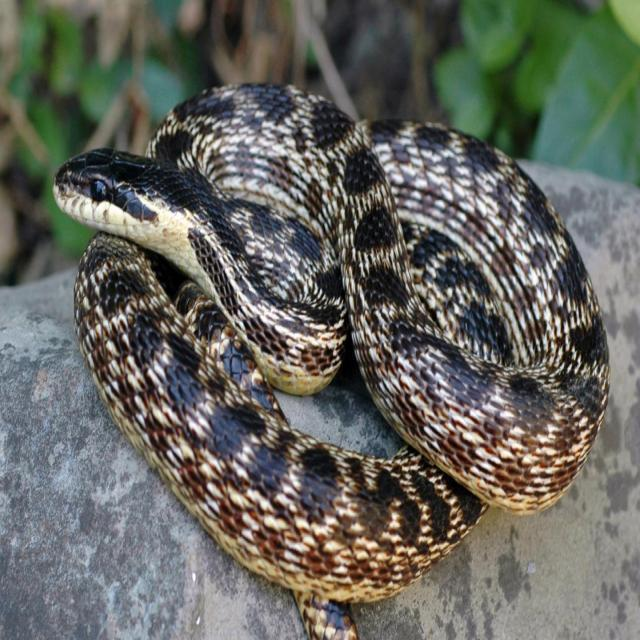Snake: (42, 41, 628, 598)
